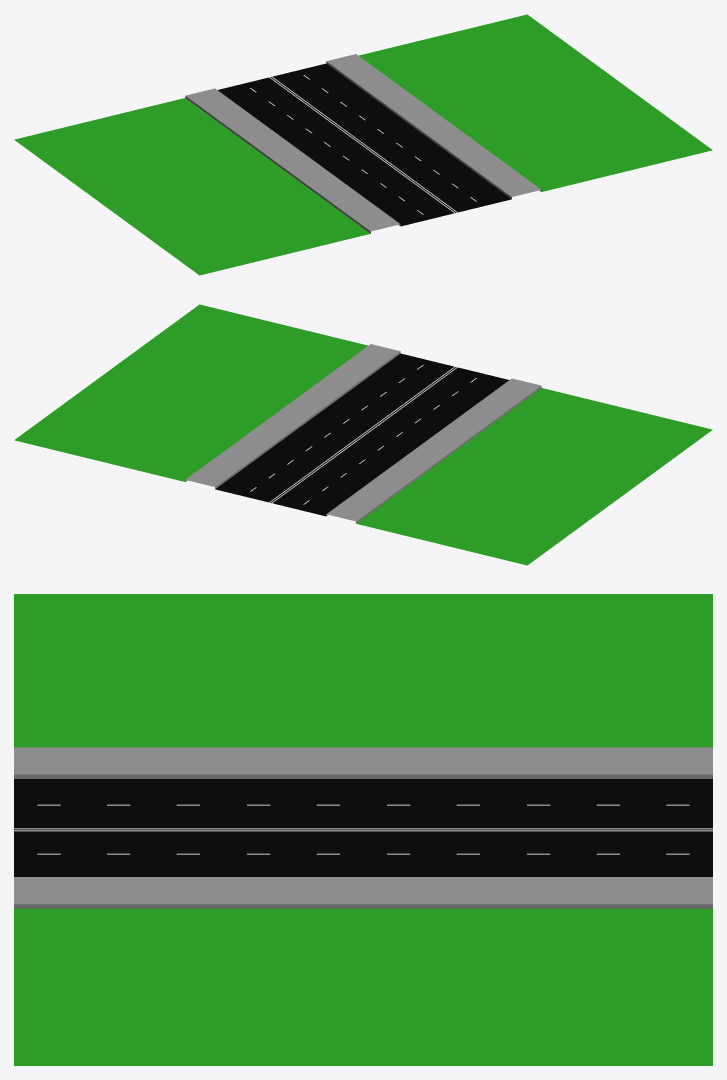
Rendered from DrogaMiasto1.fbx.
3 views of the same model, one above another, from view 1: azimuth 30°, elevation 25°; view 2: azimuth 150°, elevation 25°; view 3: azimuth 270°, elevation 25° (orthographic). The views are drawn at different scales.
Parts seen in each view (by area): view 1: DrogaMiasto; view 2: DrogaMiasto; view 3: DrogaMiasto.
Boxes of the visible parts, box(x1,y1,x2,y2) form: DrogaMiasto: box(14, 14, 712, 275); DrogaMiasto: box(14, 304, 712, 565); DrogaMiasto: box(14, 594, 712, 1065).
Size of the model in its own units: 4790 by 20 by 3000.
